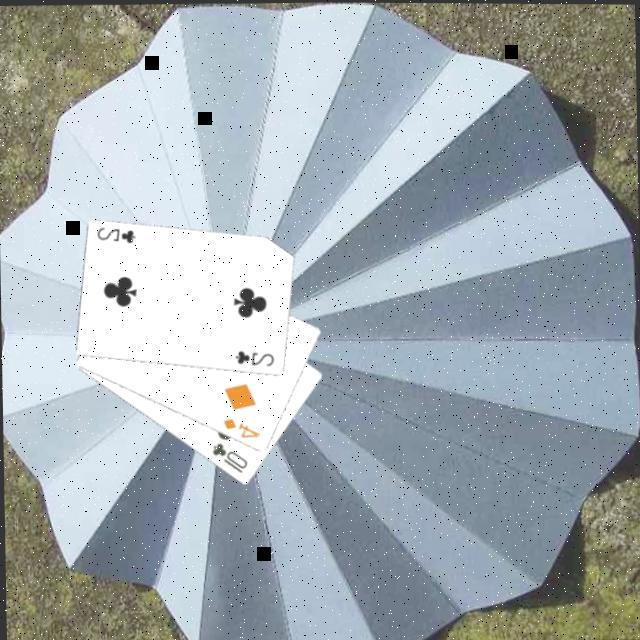10C: (206, 437, 249, 475)
2C: (231, 345, 275, 368), (92, 222, 136, 245)
4D: (218, 413, 260, 440)
